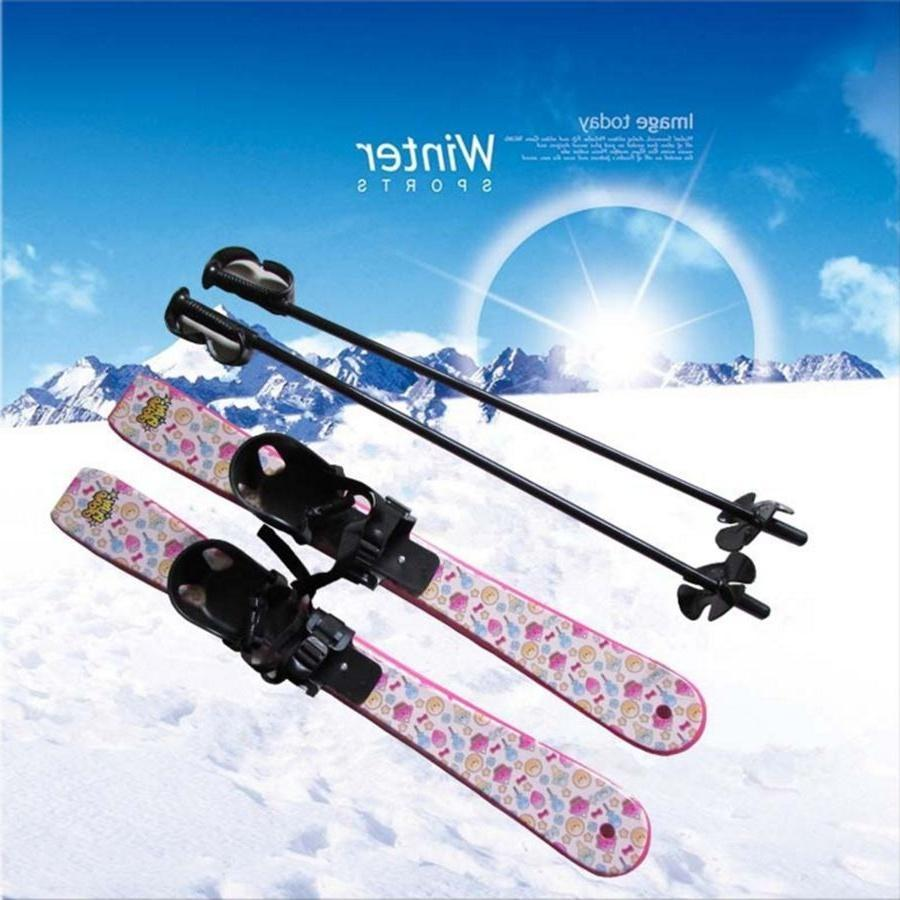Skis: (38, 228, 818, 884)
